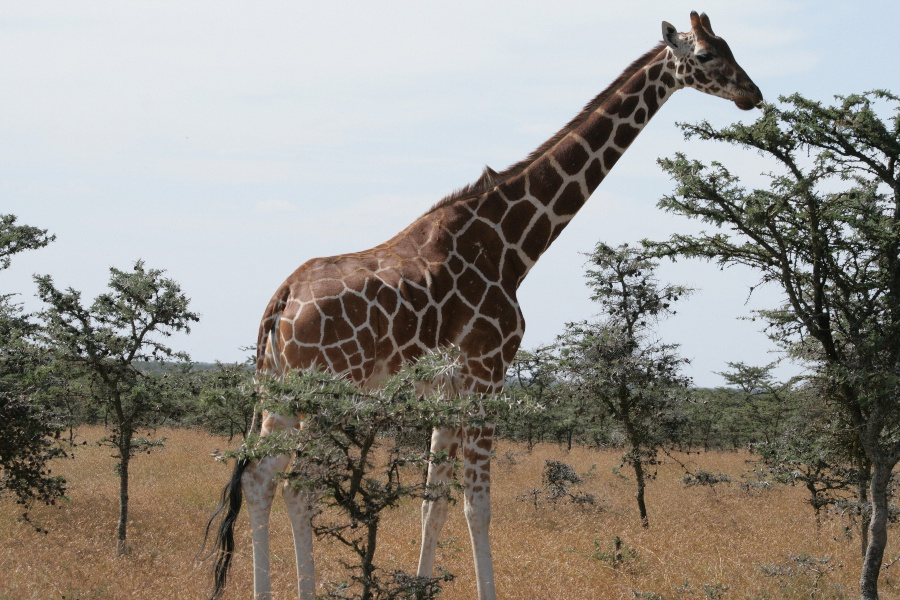giraffe: (216, 13, 769, 596)
